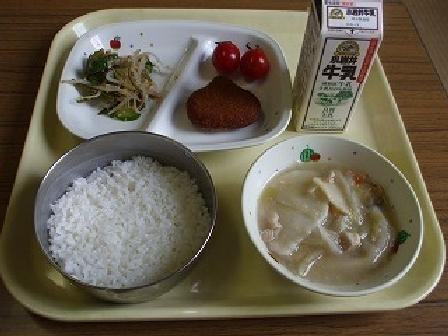Cherry tomatoes: (203, 27, 275, 82)
Milk: (283, 0, 388, 136)
Rice: (31, 134, 228, 306)
Salad: (50, 40, 166, 127)
Soups: (250, 148, 427, 293)
cutlet: (182, 71, 266, 137)
